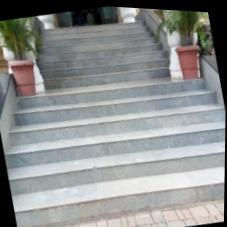Bench: (6, 87, 226, 227)
